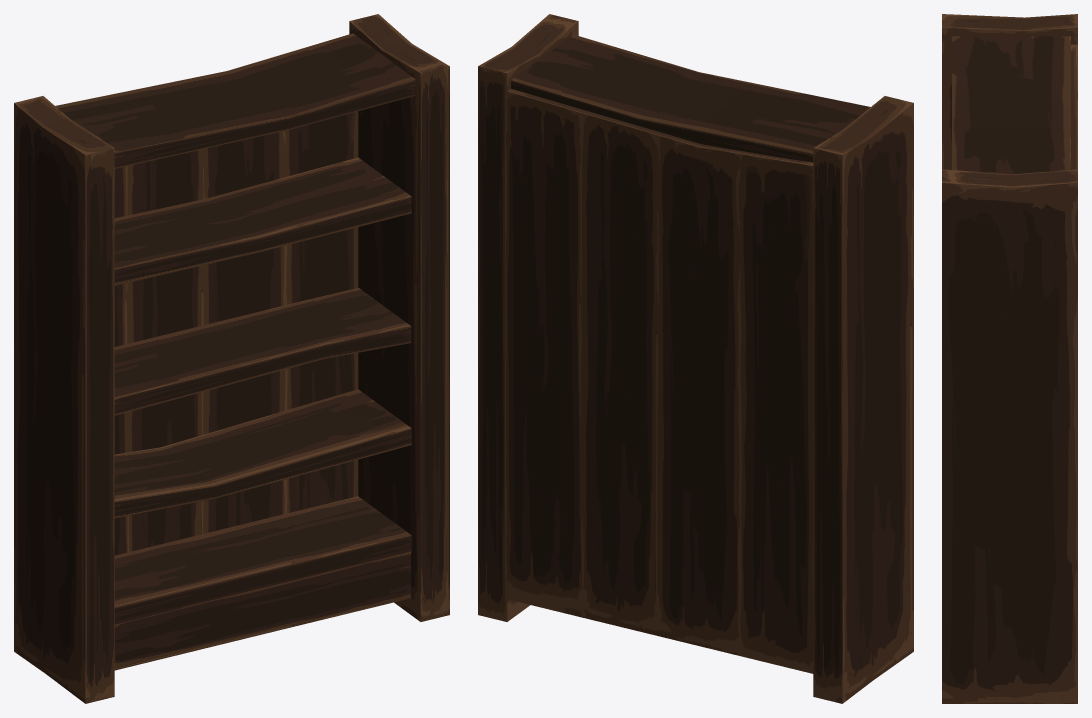
Rendered from SM_PROP_bookshelf_dungeon_02.fbx.
3 views of the same model, side by side, from view 1: azimuth 30°, elevation 25°; view 2: azimuth 150°, elevation 25°; view 3: azimuth 270°, elevation 25° (orthographic). The views are drawn at different scales.
Parts seen in each view (by area): view 1: SM_PROP_bookshelf_dungeon_02; view 2: SM_PROP_bookshelf_dungeon_02; view 3: SM_PROP_bookshelf_dungeon_02.
Part boxes in pixels (left/top/right/bottom): SM_PROP_bookshelf_dungeon_02: left=14, top=14, right=449, bottom=703; SM_PROP_bookshelf_dungeon_02: left=478, top=14, right=913, bottom=703; SM_PROP_bookshelf_dungeon_02: left=942, top=14, right=1077, bottom=703.
Size of the model in its own units: 177 by 255 by 60.18.
